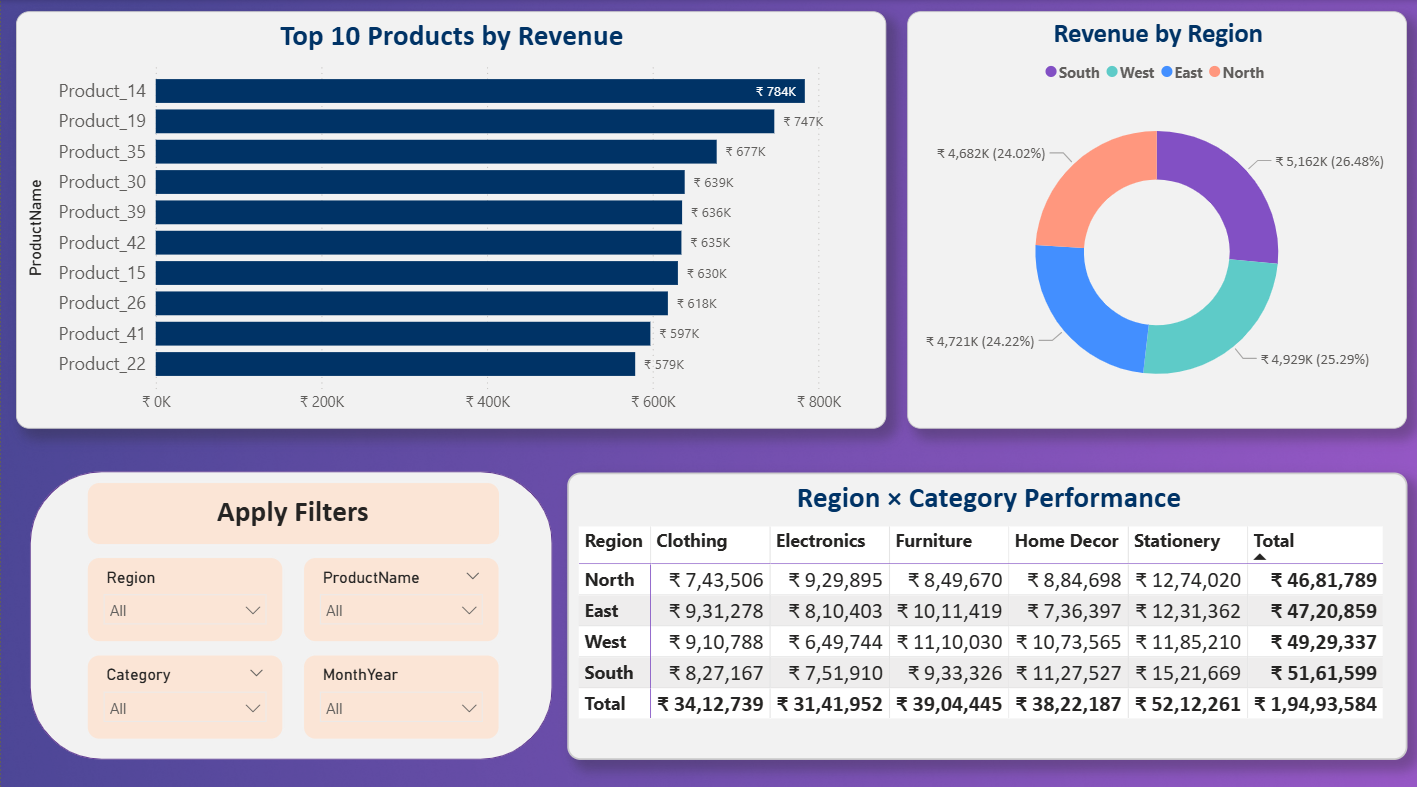

The dashboard page shown, as its layout file describes it:
{"tool":"powerbi","page":{"name":"Product & Region Insights","canvas":[1280,720],"ordinal":1},"visuals":[{"type":"clusteredBarChart","title":"Top 10 Products by Revenue","fields":{"Category":["Products.ProductName"],"Y":["Sales.Total Revenue"]},"box":[13.6,10.2,786.9,377.6],"z":0},{"type":"shape","box":[25.6,426.4,473,260.9],"z":0,"group":"g2"},{"type":"donutChart","title":"Revenue by Region","fields":{"Category":["Sales.Region"],"Y":["Sales.Total Revenue"]},"box":[819.7,10.2,452.3,377.6],"z":1000},{"type":"textbox","box":[76.9,435.7,375.1,58.5],"z":1000,"group":"g1"},{"type":"pivotTable","title":"Region × Category Performance","fields":{"Rows":["Sales.Region"],"Values":["Sales.Total Revenue"],"Columns":["Products.Category"]},"box":[512.2,427.4,759.8,260.1],"z":2000},{"type":"slicer","fields":{"Values":["Sales.Region"]},"box":[76.9,503.3,179,78],"z":2000,"group":"g1"},{"type":"group","id":"g1","title":"Group 1","box":[76.9,435.7,375.1,234.1],"z":2001,"group":"g2"},{"type":"group","id":"g2","title":"Group 2","box":[25.6,426.4,473,260.9],"z":3000},{"type":"slicer","fields":{"Values":["Products.ProductName"]},"box":[273,503.3,179,78],"z":4000,"group":"g1"},{"type":"slicer","title":"Filter by Month","fields":{"Values":["Sales.MonthYear"]},"box":[273,591.8,179,78],"z":5000,"group":"g1"},{"type":"slicer","fields":{"Values":["Products.Category"]},"box":[76.9,591.8,179,78],"z":6000,"group":"g1"}]}

Visuals, with their boxes in screenshot pixels (x1, y1, x2, y2), scaled from the page's 1280x720 canvas onto the 1417x787 screenshot:
"Top 10 Products by Revenue" clusteredBarChart: BBox(15, 11, 886, 424)
shape: BBox(28, 466, 552, 751)
"Revenue by Region" donutChart: BBox(907, 11, 1408, 424)
textbox: BBox(85, 476, 500, 540)
"Region × Category Performance" pivotTable: BBox(567, 467, 1408, 751)
slicer - Sales.Region: BBox(85, 550, 283, 635)
"Group 1" group: BBox(85, 476, 500, 732)
"Group 2" group: BBox(28, 466, 552, 751)
slicer - Products.ProductName: BBox(302, 550, 500, 635)
"Filter by Month" slicer: BBox(302, 647, 500, 732)
slicer - Products.Category: BBox(85, 647, 283, 732)
